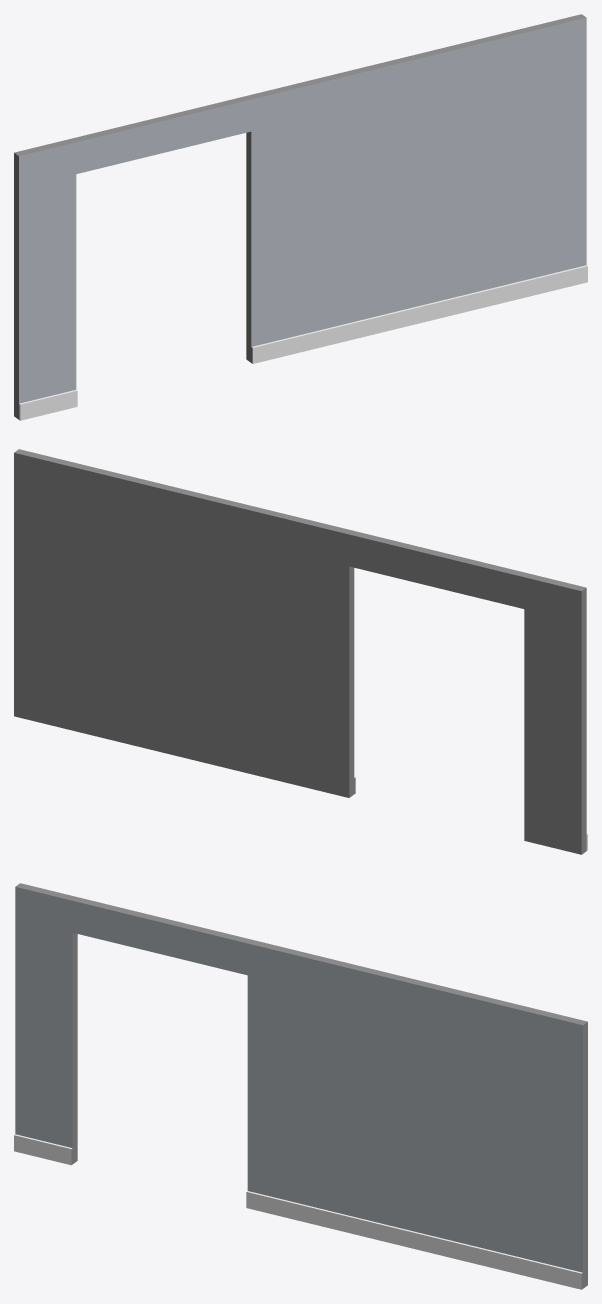
The model's file is Wall 4.fbx.
3 views of the same model, one above another, from view 1: azimuth 30°, elevation 25°; view 2: azimuth 150°, elevation 25°; view 3: azimuth 330°, elevation 25° (orthographic).
Parts seen in each view (by area): view 1: Wall 4; view 2: Wall 4; view 3: Wall 4.
Boxes of the visible parts, x1=… form: Wall 4: x1=14, y1=14, x2=587, y2=420; Wall 4: x1=14, y1=449, x2=587, y2=854; Wall 4: x1=14, y1=883, x2=587, y2=1289.
Size of the model in its own units: 588 by 261 by 11.22.
Materials: 3 (1 with a texture image).
